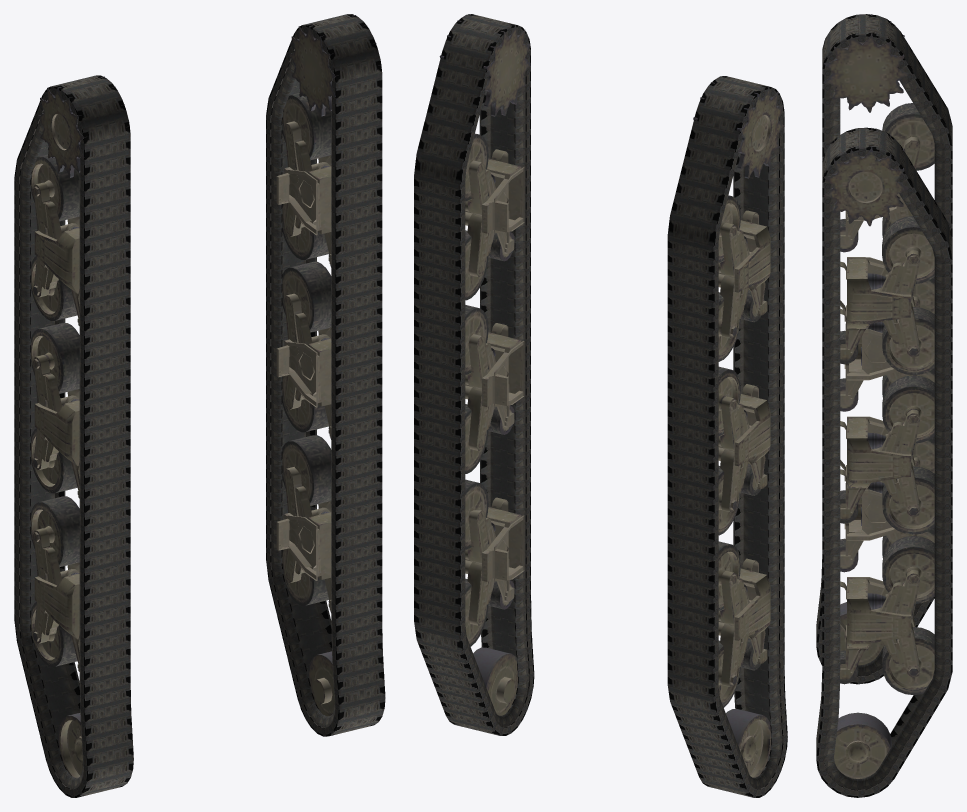
File: Chassis.glb
3 renders of one model, left to right at view 1: azimuth 30°, elevation 25°; view 2: azimuth 150°, elevation 25°; view 3: azimuth 270°, elevation 25°, orthographic. The views are drawn at different scales.
Parts seen in each view (by area): view 1: set_0_group_0, set_1_group_0, set_3_group_0, set_2_group_0; view 2: set_0_group_0, set_1_group_0, set_3_group_0, set_2_group_0; view 3: set_3_group_0, set_1_group_0, set_2_group_0, set_0_group_0.
Boxes of the visible parts, x1=… form: set_0_group_0: x1=14, y1=75, x2=133, y2=797; set_1_group_0: x1=266, y1=14, x2=385, y2=736; set_3_group_0: x1=276, y1=15, x2=381, y2=716; set_2_group_0: x1=31, y1=76, x2=129, y2=777; set_0_group_0: x1=667, y1=76, x2=787, y2=797; set_1_group_0: x1=414, y1=14, x2=534, y2=735; set_3_group_0: x1=439, y1=14, x2=530, y2=715; set_2_group_0: x1=693, y1=76, x2=783, y2=777; set_3_group_0: x1=823, y1=128, x2=934, y2=778; set_1_group_0: x1=816, y1=127, x2=952, y2=797; set_2_group_0: x1=823, y1=14, x2=934, y2=665; set_0_group_0: x1=816, y1=14, x2=952, y2=684.
Size of the model in its own units: 2.61 by 5.78 by 1.1.
Materials: 4 (4 with a texture image).
